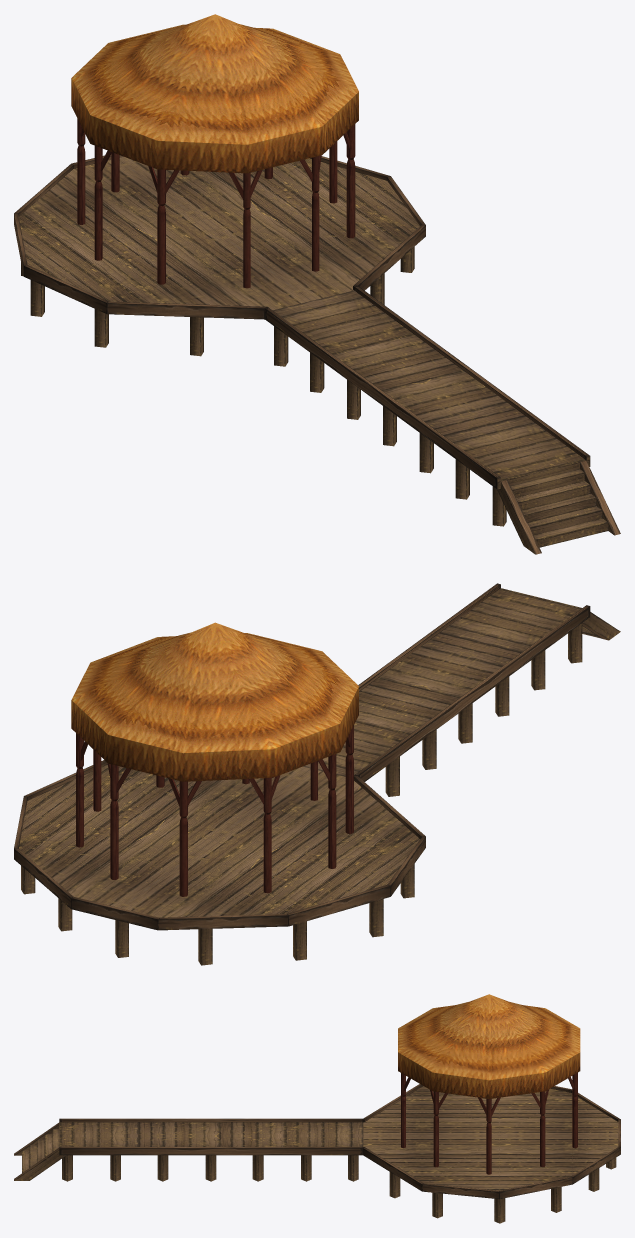
The model's file is Deck_01.FBX.
The picture shows the model from 3 angles, top to bottom: view 1: azimuth 30°, elevation 25°; view 2: azimuth 150°, elevation 25°; view 3: azimuth 270°, elevation 25°; orthographic projection. The views are drawn at different scales.
Parts seen in each view (by area): view 1: Deck_01; view 2: Deck_01; view 3: Deck_01.
Part boxes in pixels (x1,y1,x2,y2): Deck_01: (14, 14, 620, 554); Deck_01: (14, 583, 620, 965); Deck_01: (14, 994, 620, 1223).
Size of the model in its own units: 8.01 by 17.53 by 5.52.
